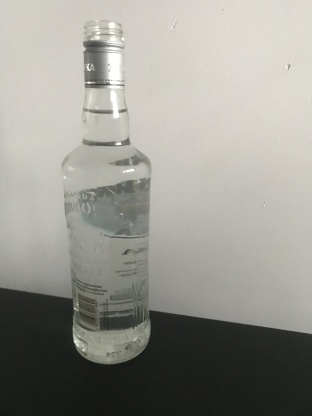nakretka: (81, 17, 127, 89)
